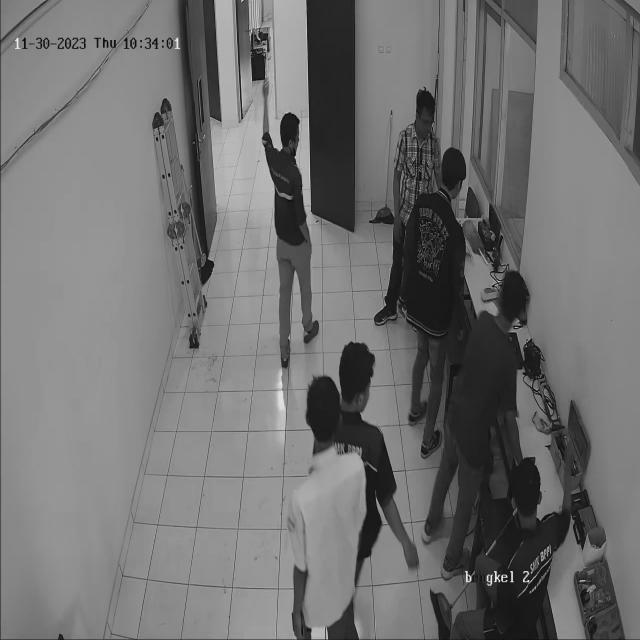person: (438, 267, 520, 549), (416, 154, 465, 424), (268, 107, 318, 359), (402, 76, 446, 330)
